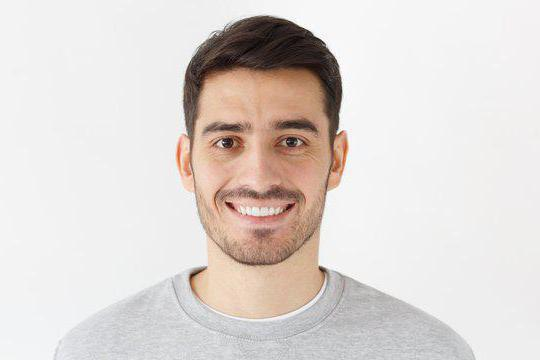Sober: (199, 73, 326, 260)
